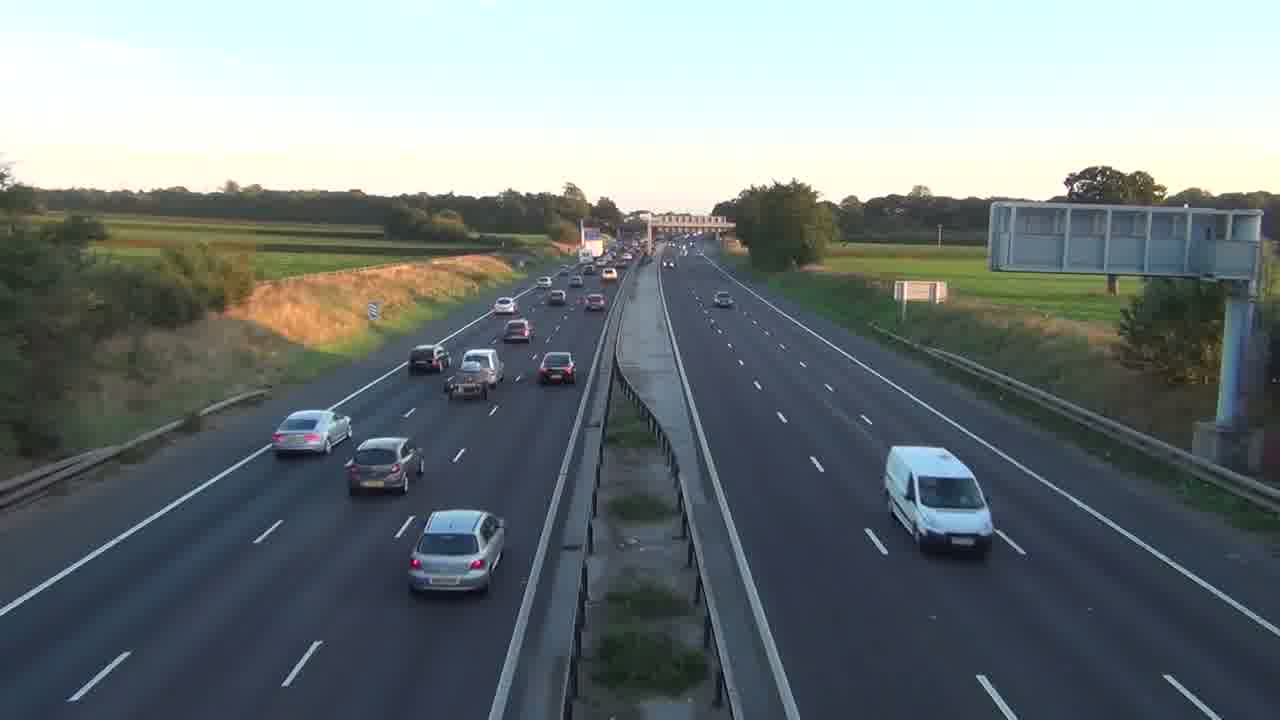car: (883, 444, 995, 557), (403, 508, 507, 597), (344, 435, 425, 495), (271, 408, 352, 455), (460, 347, 504, 386), (536, 351, 576, 386), (408, 343, 451, 374), (503, 318, 532, 342), (580, 292, 607, 312), (546, 288, 567, 306), (713, 290, 734, 307)
